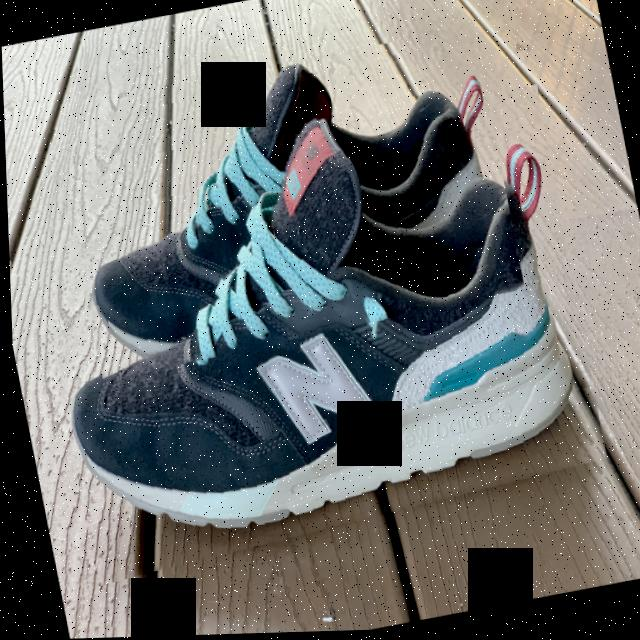shoe: (15, 86, 615, 588), (41, 29, 527, 384)
